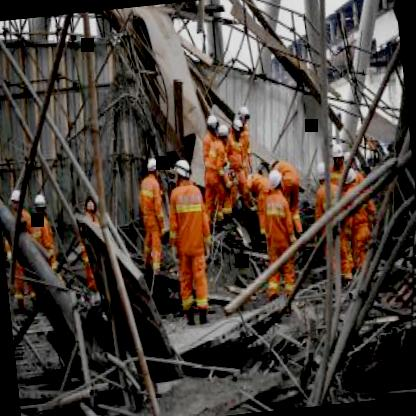helmet: (172, 153, 192, 187), (313, 154, 331, 190), (330, 134, 346, 170), (267, 168, 286, 196), (8, 183, 25, 214), (32, 190, 48, 218), (204, 110, 220, 138), (235, 98, 252, 124), (145, 152, 160, 181), (216, 121, 231, 148)
